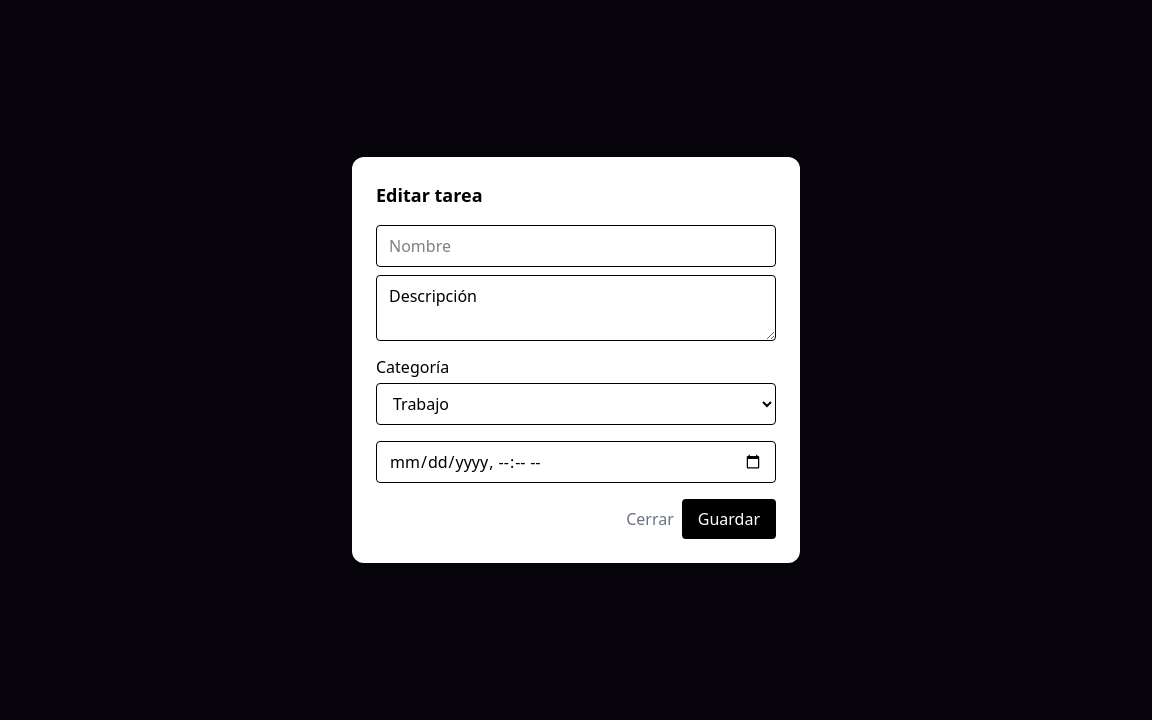
Scenario: EditTaskModal › muestra error si el nombre está vacío
Click the button "Guardar". click: x=729, y=519
box: top-left (682, 499), bottom-right (776, 539)
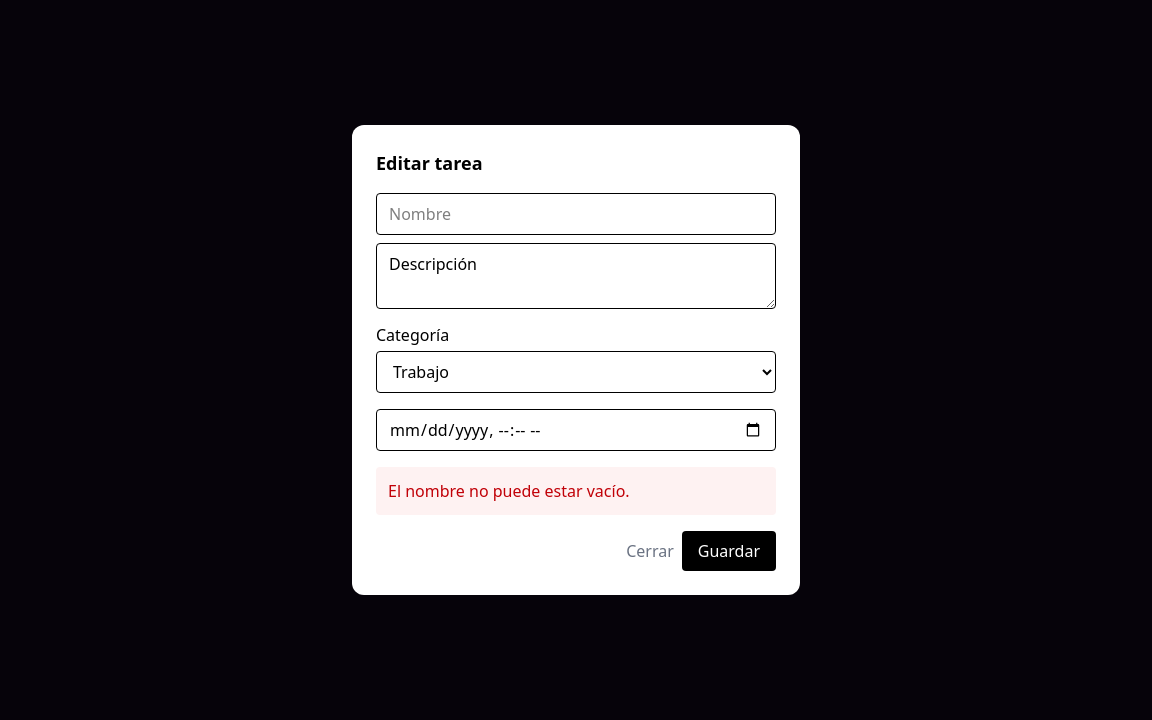
Check: the text "El nombre no puede estar vacío." is shown, box top-left (376, 467), bottom-right (776, 515)
